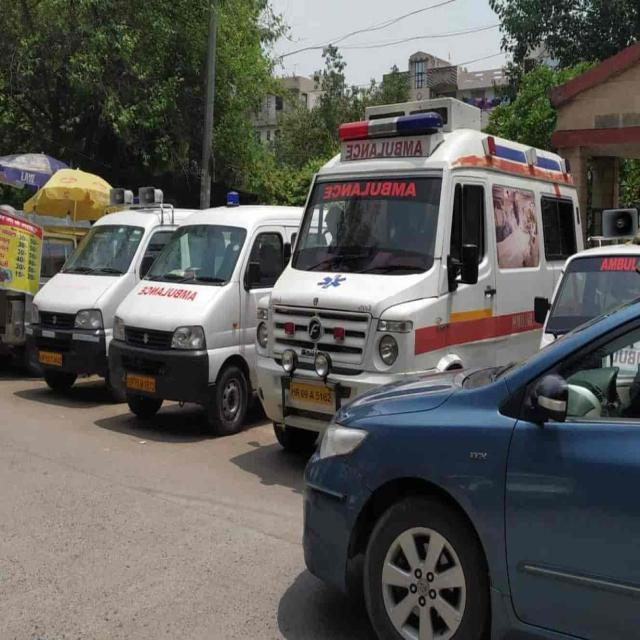Ambulance: (321, 179, 422, 203), (342, 139, 427, 161), (315, 273, 348, 291)
